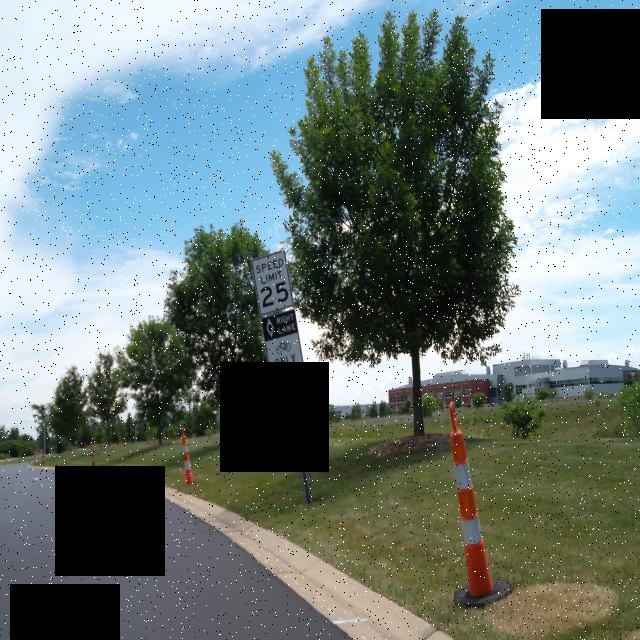regulatory: (250, 249, 298, 313)
